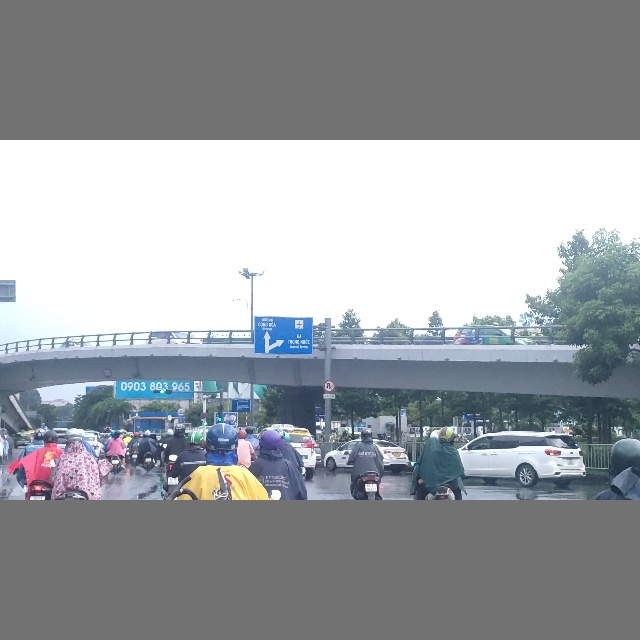P.124b1: (324, 380, 335, 393)
